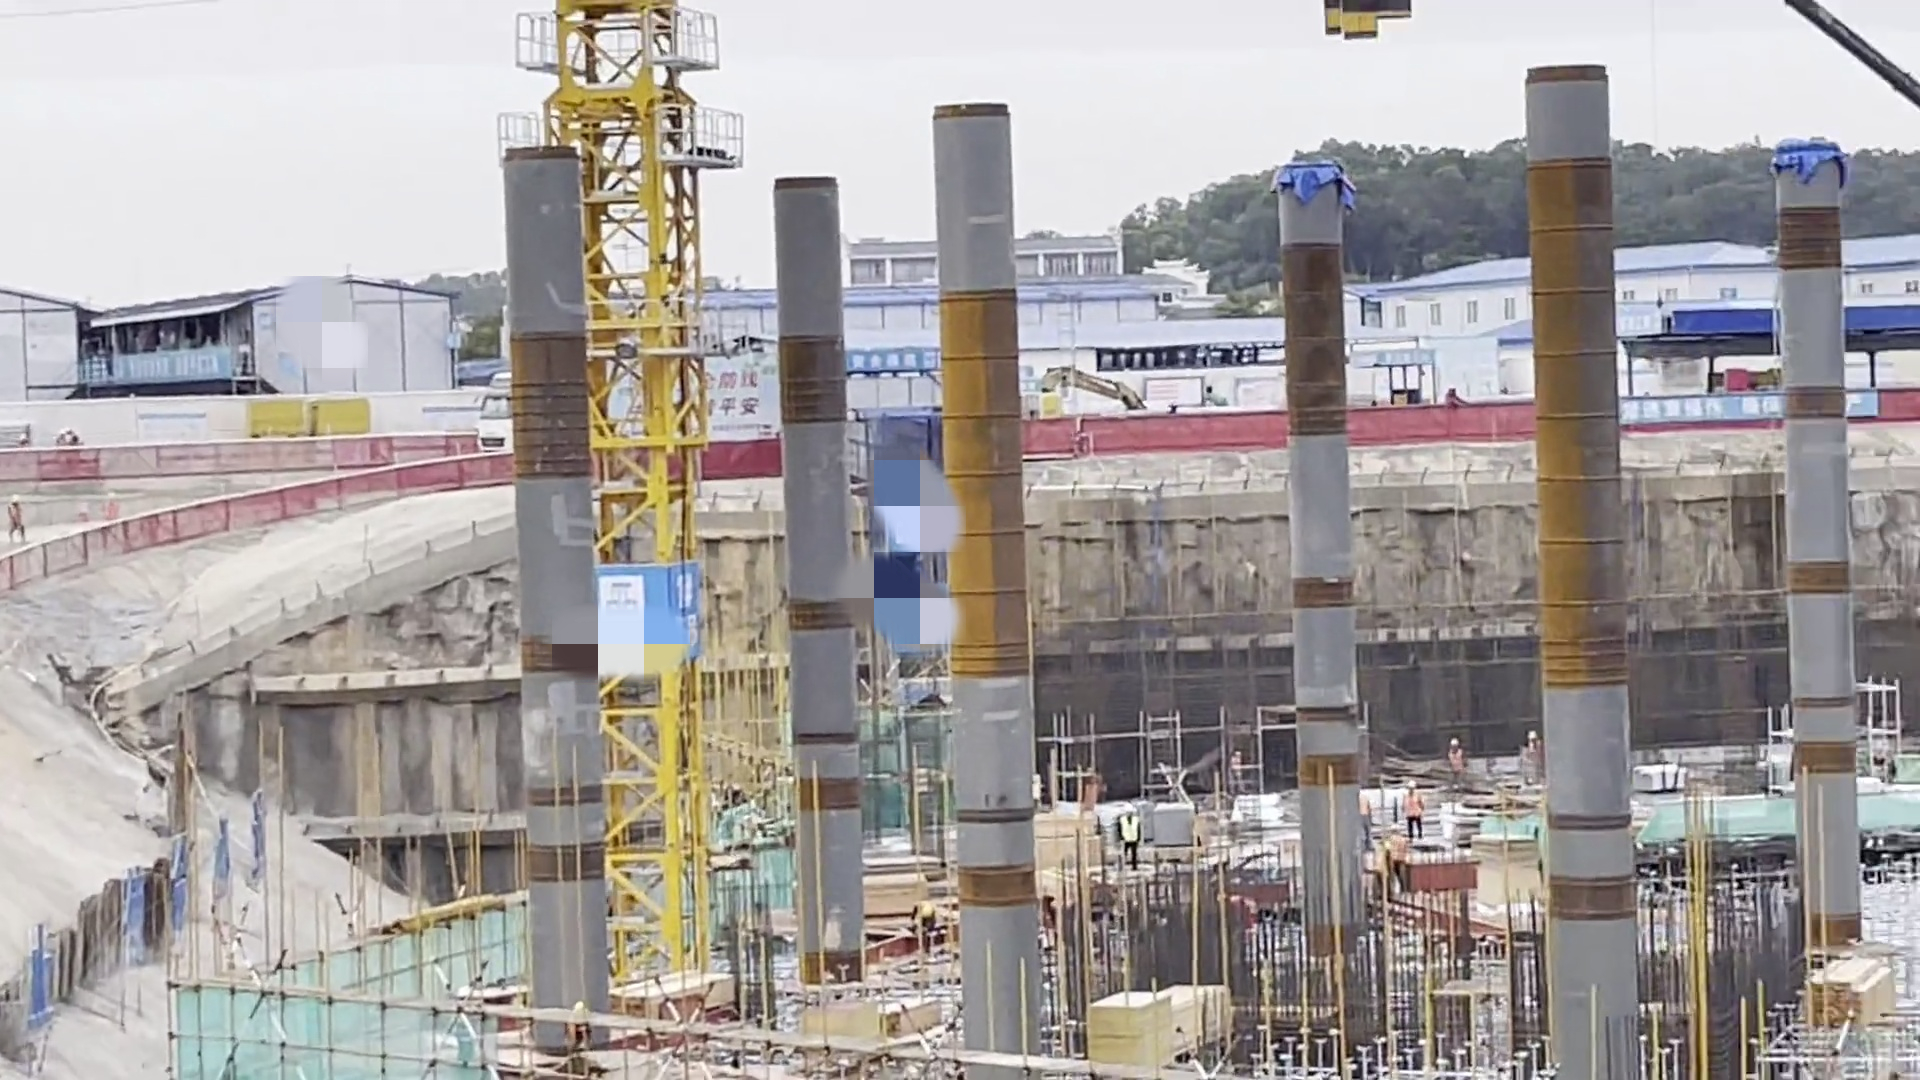board: (1083, 975, 1194, 1077), (617, 949, 740, 1025), (1169, 957, 1248, 1036), (803, 986, 879, 1052)
fence: (1, 443, 535, 578), (3, 408, 506, 492), (1009, 404, 1291, 474), (1347, 398, 1547, 477)
helmet: (1404, 775, 1440, 796), (1124, 798, 1149, 822), (1446, 734, 1463, 753), (1522, 730, 1532, 739)
person: (1516, 720, 1562, 800), (1109, 789, 1151, 873), (1394, 774, 1429, 841), (1383, 815, 1416, 886), (1443, 720, 1470, 794)
slogan: (636, 350, 787, 443), (1627, 391, 1886, 437), (595, 565, 701, 659), (116, 349, 252, 382), (846, 353, 946, 384)
vest: (1116, 815, 1155, 855), (1408, 792, 1437, 821), (1451, 748, 1465, 767)
